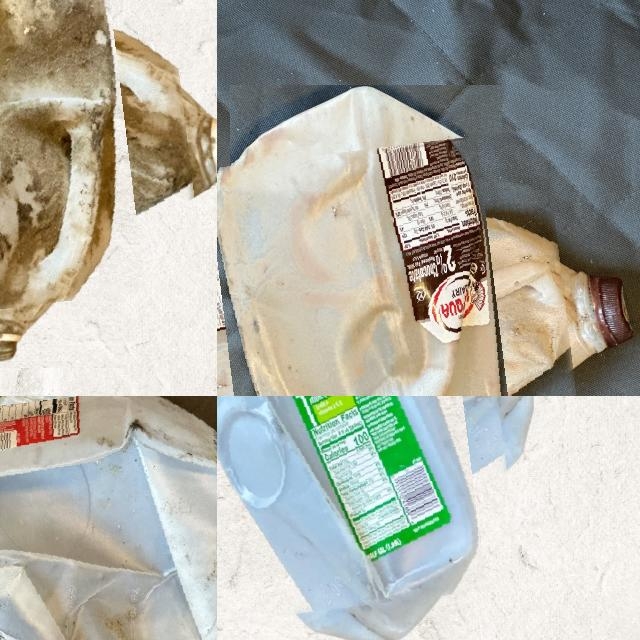milk-jug: (217, 139, 580, 396), (217, 396, 509, 618), (0, 0, 193, 317), (0, 396, 217, 640)
